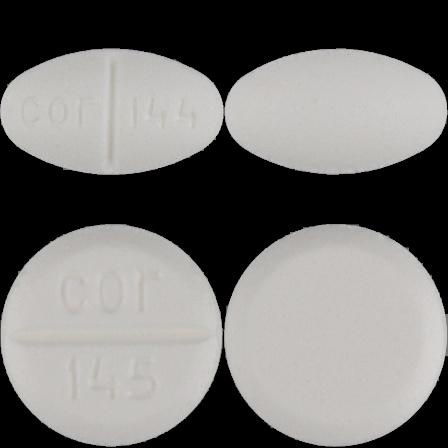0904-1056: (0, 0, 224, 224)
